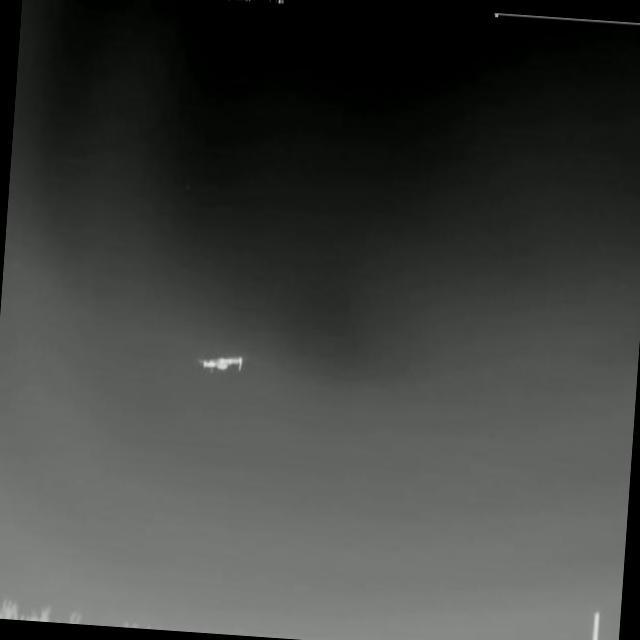DRONE: (185, 345, 252, 382)
